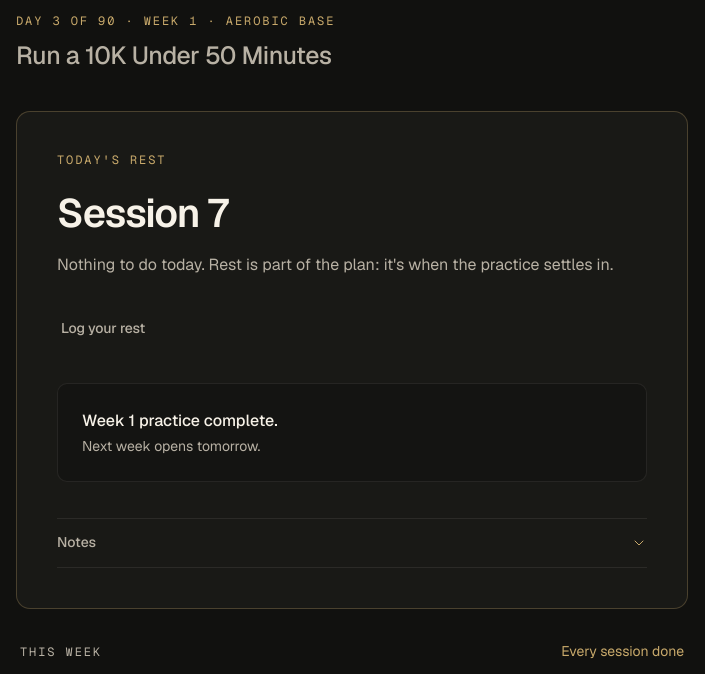
Test case: Today › renders rest day state with intentional adaptation copy, suppressed start button, recovery toggle, and next step preview
The image size is (705, 674).
Expected: the text "Today's rest" is shown, 57,152 -> 166,168
Expected: the text "Nothing to do today. Rest is part of the plan: it's when the practice settles in." is shown, 57,254 -> 613,275
What coordinates should you click on to do the following:
click the button "Log your rest"
I would click on:
 (103, 329)
Its box is 45,307 -> 161,351.
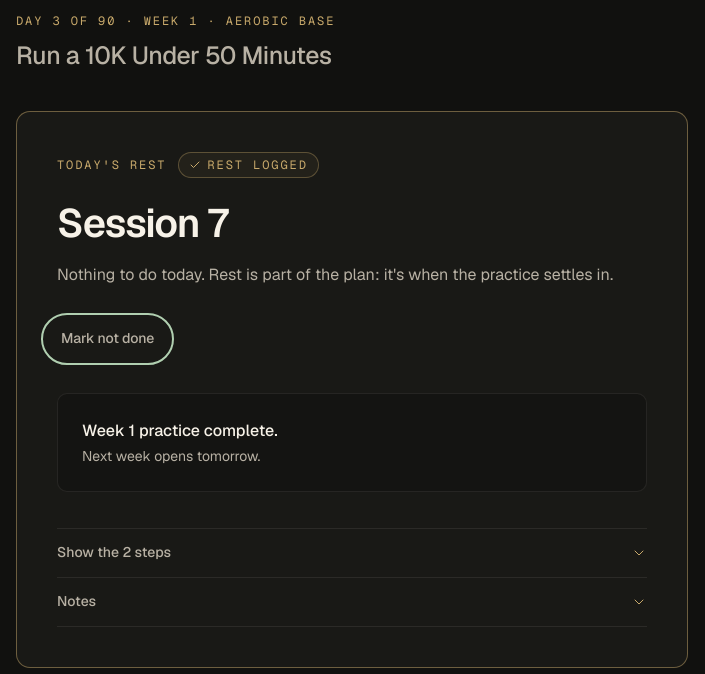
Now the text "Rest logged" is shown, box 178,152 -> 319,178
Now the button "Mark not done" is shown, box 45,317 -> 170,361
